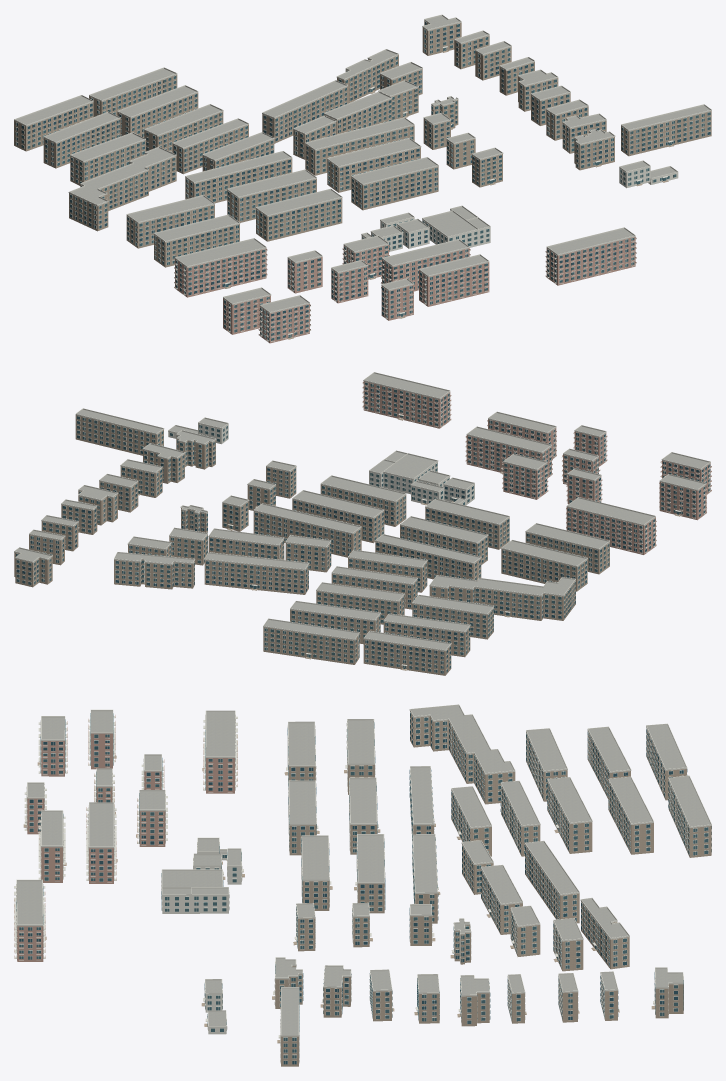
Rendered from chunk-n2-n1.glb.
The picture shows the model from 3 angles, top to bottom: view 1: azimuth 30°, elevation 25°; view 2: azimuth 150°, elevation 25°; view 3: azimuth 270°, elevation 25°; orthographic projection. The views are drawn at different scales.
Visible parts, largest first — view 1: chunk-n2-n1; view 2: chunk-n2-n1; view 3: chunk-n2-n1.
Part boxes in pixels (x1,y1,x2,y2): chunk-n2-n1: (14, 14, 711, 343); chunk-n2-n1: (14, 372, 711, 675); chunk-n2-n1: (14, 704, 711, 1066).
Bounding box in the file's own units: 402 × 24.41 × 360.
6 materials, 2 textured.
